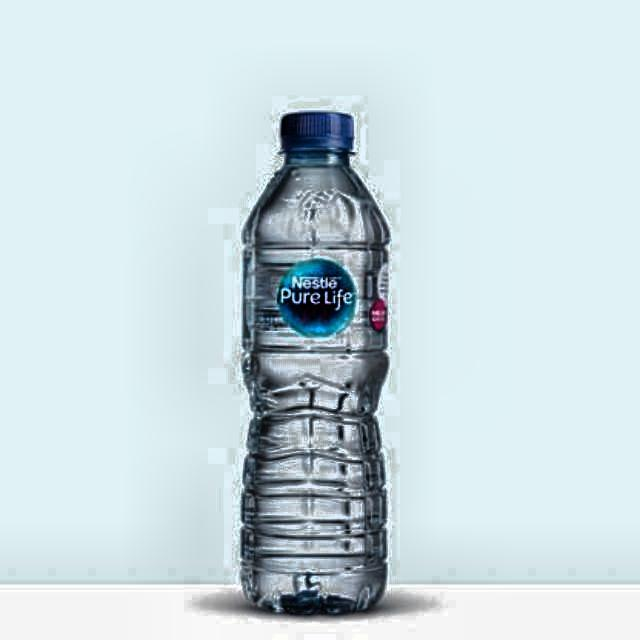Bottles: (220, 105, 411, 620)
